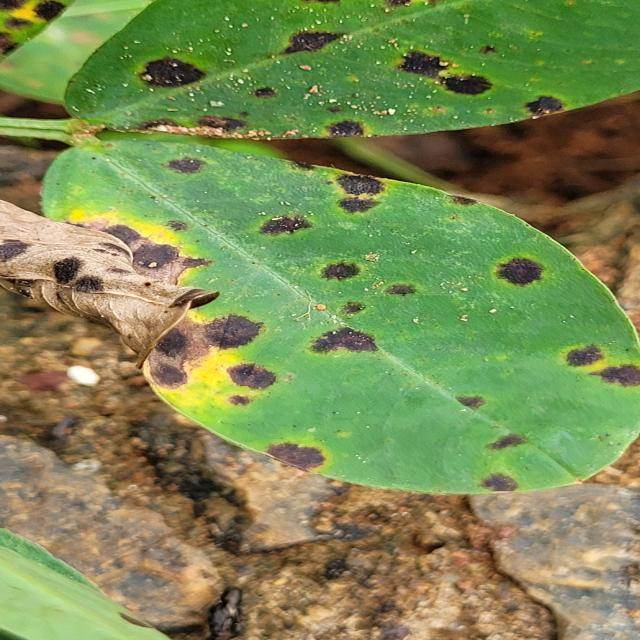Ground nut_tikka leaf spot: (36, 129, 640, 496), (68, 0, 640, 138)
